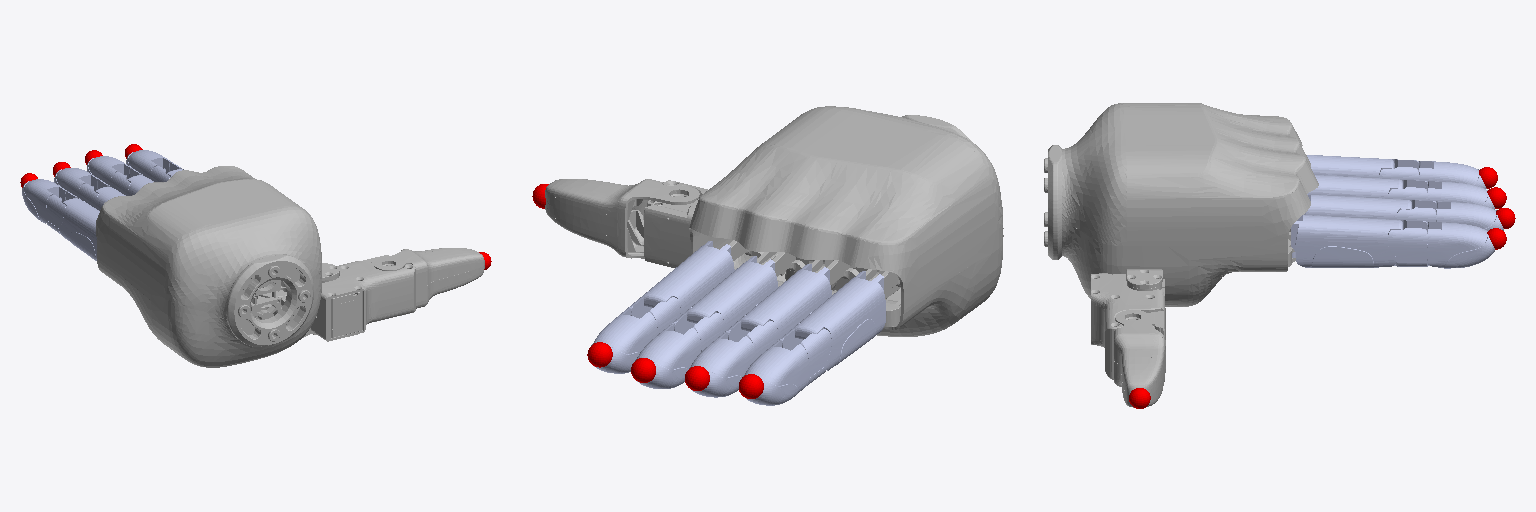
The robot description file, URDF, robot "Dex5-URDF-L":
<robot name="Dex5-URDF-L">
  <!-- Local deviations from the official unitreerobotics/unitree_ros Dex5-1 URDF:
       1. (left)  joint "Link_41L" renamed to "Roll_41L" - upstream collided with the
          link of the same name and broke the Roll_x1 convention used by every other finger.
       2. (right) link "base_link00" renamed to "base_link00R" for L/R symmetry.
       3. Added fixed *_tip frames on each distal link (offsets measured from the STL
          meshes). Retargeting optimizes a named link's frame ORIGIN, and each Link_x4
          origin sits on its own joint axis, i.e. at the last knuckle rather than the
          fingertip. Mirrors the convention already used by the Dex3-1 URDF. -->
  <mujoco>
    <compiler meshdir="meshes" discardvisual="false"/>
  </mujoco>
  <link name="base_link00L">
    <inertial>
      <origin xyz="-0.0227590758806084 0.027982 0.0119348470032202" rpy="0 0 0"/>
      <mass value="0.732177466301149"/>
      <inertia ixx="4.73937555345999E-04" ixy="1.71786934123191E-05" ixz="9.33281320777651E-07" iyy="5.5298572334445E-04" iyz="1.82790564520838E-05" izz="8.49303641851949E-04"/>
    </inertial>
    <visual>
      <origin xyz="0 0 0" rpy="0 0 0"/>
      <geometry>
        <mesh filename="meshes/base_link00L.STL"/>
      </geometry>
      <material name="">
        <color rgba="0.752941176470588 0.752941176470588 0.752941176470588 0.7"/>
      </material>
    </visual>
    <collision>
      <origin xyz="0 0 0" rpy="0 0 0"/>
      <geometry>
        <mesh filename="meshes/base_link00L.STL"/>
      </geometry>
    </collision>
  </link>
  <link name="Link_11L">
    <inertial>
      <origin xyz="-0.008418 0.000123 -0.003247" rpy="0 0 0"/>
      <mass value="0.02363"/>
      <inertia ixx="2.641049E-06" ixy="1.9442E-08" ixz="1.8132E-07" iyy="3.607134E-06" iyz="5.837E-09" izz="3.860781E-06"/>
    </inertial>
    <visual>
      <origin xyz="0 0 0" rpy="0 0 0"/>
      <geometry>
        <mesh filename="meshes/Link_11L.STL"/>
      </geometry>
      <material name="">
        <color rgba="0.752941176470588 0.752941176470588 0.752941176470588 1"/>
      </material>
    </visual>
    <collision>
      <origin xyz="0 0 0" rpy="0 0 0"/>
      <geometry>
        <mesh filename="meshes/Link_11L.STL"/>
      </geometry>
    </collision>
  </link>
  <joint name="Yaw_11L" type="revolute">
    <origin xyz="0 0 -0.0143499999999992" rpy="0 0 0"/>
    <parent link="base_link00L"/>
    <child link="Link_11L"/>
    <axis xyz="0 0 1"/>
    <limit lower="-0.5867" upper="0.6803" effort="0.93" velocity="4.18"/>
  </joint>
  <link name="Link_12L">
    <inertial>
      <origin xyz="0.014668 0.000013 -0.004099" rpy="0 0 0"/>
      <mass value="0.015809"/>
      <inertia ixx="3.066476E-06" ixy="-4.497E-9" ixz="2.22721E-7" iyy="4.049699E-06" iyz="1.404E-9" izz="3.627081E-06"/>
    </inertial>
    <visual>
      <origin xyz="0 0 0" rpy="0 0 0"/>
      <geometry>
        <mesh filename="meshes/Link_12L.STL"/>
      </geometry>
      <material name="">
        <color rgba="0.752941176470588 0.752941176470588 0.752941176470588 1"/>
      </material>
    </visual>
    <collision>
      <origin xyz="0 0 0" rpy="0 0 0"/>
      <geometry>
        <mesh filename="meshes/Link_12L.STL"/>
      </geometry>
    </collision>
  </link>
  <joint name="Roll_12L" type="revolute">
    <origin xyz="-1.0604101991607E-05 0 0" rpy="1.5707963267949 0 0"/>
    <parent link="Link_11L"/>
    <child link="Link_12L"/>
    <axis xyz="0 0 1"/>
    <limit lower="-1.8151" upper="0" effort="0.93" velocity="4.18"/>
  </joint>
  <link name="Link_13L">
    <inertial>
      <origin xyz="0.018557 -0.006933 0.000159" rpy="0 0 0"/>
      <mass value="0.06674"/>
      <inertia ixx="9.105565E-06" ixy="-1.948696E-06" ixz="2.9291E-08" iyy="2.2925394E-05" iyz="-0.816E-09" izz="2.3878954E-05"/>
    </inertial>
    <visual>
      <origin xyz="0 0 0" rpy="0 0 0"/>
      <geometry>
        <mesh filename="meshes/Link_13L.STL"/>
      </geometry>
      <material name="">
        <color rgba="0.752941176470588 0.752941176470588 0.752941176470588 1"/>
      </material>
    </visual>
    <collision>
      <origin xyz="0 0 0" rpy="0 0 0"/>
      <geometry>
        <mesh filename="meshes/Link_13L.STL"/>
      </geometry>
    </collision>
  </link>
  <joint name="Pitch_13L" type="revolute">
    <origin xyz="0.0334999999999999 0 -0.00600000000003837" rpy="-1.57079632679489 0 0"/>
    <parent link="Link_12L"/>
    <child link="Link_13L"/>
    <axis xyz="0 0 1"/>
    <limit lower="0" upper="1.7652" effort="0.93" velocity="4.18"/>
  </joint>
  <link name="Link_14L">
    <inertial>
      <origin xyz="0.028085 0.003322 0.000472" rpy="0 0 0"/>
      <mass value="0.020073"/>
      <inertia ixx="1.93782E-06" ixy="-1.69818E-07" ixz="1.24848E-07" iyy="6.083181E-06" iyz="2.0791E-08" izz="5.614839E-06"/>
    </inertial>
    <visual>
      <origin xyz="0 0 0" rpy="0 0 0"/>
      <geometry>
        <mesh filename="meshes/Link_14L.STL"/>
      </geometry>
      <material name="">
        <color rgba="0.752941176470588 0.752941176470588 0.752941176470588 1"/>
      </material>
    </visual>
    <collision>
      <origin xyz="0 0 0" rpy="0 0 0"/>
      <geometry>
        <mesh filename="meshes/Link_14L.STL"/>
      </geometry>
    </collision>
  </link>
  <joint name="Pitch_14L" type="revolute">
    <origin xyz="0.0366088275363755 -0.00536597803648681 0" rpy="0 0 0"/>
    <parent link="Link_13L"/>
    <child link="Link_14L"/>
    <axis xyz="0 0 1"/>
    <limit lower="0" upper="1.6406" effort="0.93" velocity="4.18"/>
  </joint>
  <link name="Link_21L">
    <inertial>
      <origin xyz="0.007826 -0.000005 -0.004125" rpy="0 0 0"/>
      <mass value="0.004497"/>
      <inertia ixx="8.9889E-08" ixy="-4.9E-11" ixz="3.7079E-08" iyy="1.37514E-07" iyz="-1.18E-10" izz="9.6125E-08"/>
    </inertial>
    <visual>
      <origin xyz="0 0 0" rpy="0 0 0"/>
      <geometry>
        <mesh filename="meshes/Link_21L.STL"/>
      </geometry>
      <material name="">
        <color rgba="0.792156862745098 0.819607843137255 0.933333333333333 1"/>
      </material>
    </visual>
    <collision>
      <origin xyz="0 0 0" rpy="0 0 0"/>
      <geometry>
        <mesh filename="meshes/Link_21L.STL"/>
      </geometry>
    </collision>
  </link>
  <joint name="Roll_21L" type="revolute">
    <origin xyz="0.0100000000000016 0.0731433586578309 0.00347021644327265" rpy="-3.14159265358979 0 1.5707963267949"/>
    <parent link="base_link00L"/>
    <child link="Link_21L"/>
    <axis xyz="0 0 1"/>
    <limit lower="-0.38397" upper="0.38397" effort="0.93" velocity="0.76794"/>
  </joint>
  <link name="Link_22L">
    <inertial>
      <origin xyz="0.021242 -0.005936 0.000059" rpy="0 0 0"/>
      <mass value="0.017982"/>
      <inertia ixx="1.206794E-06" ixy="-1.30843E-07" ixz="-2.335E-09" iyy="4.081109E-06" iyz="1.219E-09" izz="4.370124E-06"/>
    </inertial>
    <visual>
      <origin xyz="0 0 0" rpy="0 0 0"/>
      <geometry>
        <mesh filename="meshes/Link_22L.STL"/>
      </geometry>
      <material name="">
        <color rgba="0.792156862745098 0.819607843137255 0.933333333333333 1"/>
      </material>
    </visual>
    <collision>
      <origin xyz="0 0 0" rpy="0 0 0"/>
      <geometry>
        <mesh filename="meshes/Link_22L.STL"/>
      </geometry>
    </collision>
  </link>
  <joint name="Pitch_22L" type="revolute">
    <origin xyz="0.00419999999999998 0 0" rpy="1.5707963267949 0 0"/>
    <parent link="Link_21L"/>
    <child link="Link_22L"/>
    <axis xyz="0 0 1"/>
    <limit lower="0" upper="1.5708" effort="0.93" velocity="3.1416"/>
  </joint>
  <link name="Link_23L">
    <inertial>
      <origin xyz="0.011393 -0.005777 0.000001" rpy="0 0 0"/>
      <mass value="0.012776"/>
      <inertia ixx="6.38115E-07" ixy="5.5121E-08" ixz="-4.97E-10" iyy="6.31505E-07" iyz="-1.43E-10" izz="8.2943E-07"/>
    </inertial>
    <visual>
      <origin xyz="0 0 0" rpy="0 0 0"/>
      <geometry>
        <mesh filename="meshes/Link_23L.STL"/>
      </geometry>
      <material name="">
        <color rgba="0.792156862745098 0.819607843137255 0.933333333333333 1"/>
      </material>
    </visual>
    <collision>
      <origin xyz="0 0 0" rpy="0 0 0"/>
      <geometry>
        <mesh filename="meshes/Link_23L.STL"/>
      </geometry>
    </collision>
  </link>
  <joint name="Pitch_23L" type="revolute">
    <origin xyz="0.039999999999998 0 0" rpy="0 0 0"/>
    <parent link="Link_22L"/>
    <child link="Link_23L"/>
    <axis xyz="0 0 1"/>
    <limit lower="0" upper="1.684242699" effort="0.93" velocity="3.3685"/>
  </joint>
  <link name="Link_24L">
    <inertial>
      <origin xyz="0.009354 -0.004824 0.000072" rpy="0 0 0"/>
      <mass value="0.00639891165893413"/>
      <inertia ixx="4.9531E-07" ixy="-1.09285E-07" ixz="8.84E-10" iyy="1.466772E-06" iyz="4.47E-10" izz="1.448234E-06"/>
    </inertial>
    <visual>
      <origin xyz="0 0 0" rpy="0 0 0"/>
      <geometry>
        <mesh filename="meshes/Link_24L.STL"/>
      </geometry>
      <material name="">
        <color rgba="0.792156862745098 0.819607843137255 0.933333333333333 1"/>
      </material>
    </visual>
    <collision>
      <origin xyz="0 0 0" rpy="0 0 0"/>
      <geometry>
        <mesh filename="meshes/Link_24L.STL"/>
      </geometry>
    </collision>
  </link>
  <joint name="Pitch_24L" type="revolute">
    <origin xyz="0.020985 0.0008043 0" rpy="0 0 0"/>
    <parent link="Link_23L"/>
    <child link="Link_24L"/>
    <axis xyz="0 0 1"/>
    <limit lower="0" upper="1.3963" effort="0.93" velocity="2.7925"/>
  </joint>
  <link name="Link_31L">
    <inertial>
      <origin xyz="0.007826 -0.000005 -0.004125" rpy="0 0 0"/>
      <mass value="0.004497"/>
      <inertia ixx="8.9889E-08" ixy="-4.9E-11" ixz="3.7079E-08" iyy="1.37514E-07" iyz="-1.18E-10" izz="9.6125E-08"/>
    </inertial>
    <visual>
      <origin xyz="0 0 0" rpy="0 0 0"/>
      <geometry>
        <mesh filename="meshes/Link_31L.STL"/>
      </geometry>
      <material name="">
        <color rgba="0.792156862745098 0.819607843137255 0.933333333333333 1"/>
      </material>
    </visual>
    <collision>
      <origin xyz="0 0 0" rpy="0 0 0"/>
      <geometry>
        <mesh filename="meshes/Link_31L.STL"/>
      </geometry>
    </collision>
  </link>
  <joint name="Roll_31L" type="revolute">
    <origin xyz="-0.012 0.077143 0.0034702" rpy="-3.1416 0 1.5708"/>
    <parent link="base_link00L"/>
    <child link="Link_31L"/>
    <axis xyz="0 0 1"/>
    <limit lower="-0.38397" upper="0.38397" effort="0.93" velocity="0.76794"/>
  </joint>
  <link name="Link_32L">
    <inertial>
      <origin xyz="0.021242 -0.005936 0.000059" rpy="0 0 0"/>
      <mass value="0.017982"/>
      <inertia ixx="1.206794E-06" ixy="-1.30843E-07" ixz="-2.335E-09" iyy="4.081109E-06" iyz="1.219E-09" izz="4.370124E-06"/>
    </inertial>
    <visual>
      <origin xyz="0 0 0" rpy="0 0 0"/>
      <geometry>
        <mesh filename="meshes/Link_32L.STL"/>
      </geometry>
      <material name="">
        <color rgba="0.792156862745098 0.819607843137255 0.933333333333333 1"/>
      </material>
    </visual>
    <collision>
      <origin xyz="0 0 0" rpy="0 0 0"/>
      <geometry>
        <mesh filename="meshes/Link_32L.STL"/>
      </geometry>
    </collision>
  </link>
  <joint name="Pitch_32L" type="revolute">
    <origin xyz="0.00419999999999998 0 0" rpy="1.5707963267949 0 0"/>
    <parent link="Link_31L"/>
    <child link="Link_32L"/>
    <axis xyz="0 0 1"/>
    <limit lower="0" upper="1.5708" effort="0.93" velocity="3.1416"/>
  </joint>
  <link name="Link_33L">
    <inertial>
      <origin xyz="0.011393 -0.005777 0.000001" rpy="0 0 0"/>
      <mass value="0.012776"/>
      <inertia ixx="6.38115E-07" ixy="5.5121E-08" ixz="-4.97E-10" iyy="6.31505E-07" iyz="-1.43E-10" izz="8.2943E-07"/>
    </inertial>
    <visual>
      <origin xyz="0 0 0" rpy="0 0 0"/>
      <geometry>
        <mesh filename="meshes/Link_33L.STL"/>
      </geometry>
      <material name="">
        <color rgba="0.792156862745098 0.819607843137255 0.933333333333333 1"/>
      </material>
    </visual>
    <collision>
      <origin xyz="0 0 0" rpy="0 0 0"/>
      <geometry>
        <mesh filename="meshes/Link_33L.STL"/>
      </geometry>
    </collision>
  </link>
  <joint name="Pitch_33L" type="revolute">
    <origin xyz="0.04 0 0" rpy="0 0 0"/>
    <parent link="Link_32L"/>
    <child link="Link_33L"/>
    <axis xyz="0 0 1"/>
    <limit lower="0" upper="1.684242699" effort="0.93" velocity="3.3685"/>
  </joint>
  <link name="Link_34L">
    <inertial>
      <origin xyz="0.009354 -0.004824 0.000072" rpy="0 0 0"/>
      <mass value="0.00639891165893413"/>
      <inertia ixx="4.9531E-07" ixy="-1.09285E-07" ixz="8.84E-10" iyy="1.466772E-06" iyz="4.47E-10" izz="1.448234E-06"/>
    </inertial>
    <visual>
      <origin xyz="0 0 0" rpy="0 0 0"/>
      <geometry>
        <mesh filename="meshes/Link_34L.STL"/>
      </geometry>
      <material name="">
        <color rgba="0.792156862745098 0.819607843137255 0.933333333333333 1"/>
      </material>
    </visual>
    <collision>
      <origin xyz="0 0 0" rpy="0 0 0"/>
      <geometry>
        <mesh filename="meshes/Link_34L.STL"/>
      </geometry>
    </collision>
  </link>
  <joint name="Pitch_34L" type="revolute">
    <origin xyz="0.020985 0.0008043 0" rpy="0 0 0"/>
    <parent link="Link_33L"/>
    <child link="Link_34L"/>
    <axis xyz="0 0 1"/>
    <limit lower="0" upper="1.3963" effort="0.93" velocity="2.7925"/>
  </joint>
  <link name="Link_41L">
    <inertial>
      <origin xyz="0.007826 -0.000005 -0.004125" rpy="0 0 0"/>
      <mass value="0.004497"/>
      <inertia ixx="8.9889E-08" ixy="-4.9E-11" ixz="3.7079E-08" iyy="1.37514E-07" iyz="-1.18E-10" izz="9.6125E-08"/>
    </inertial>
    <visual>
      <origin xyz="0 0 0" rpy="0 0 0"/>
      <geometry>
        <mesh filename="meshes/Link_41L.STL"/>
      </geometry>
      <material name="">
        <color rgba="0.792156862745098 0.819607843137255 0.933333333333333 1"/>
      </material>
    </visual>
    <collision>
      <origin xyz="0 0 0" rpy="0 0 0"/>
      <geometry>
        <mesh filename="meshes/Link_41L.STL"/>
      </geometry>
    </collision>
  </link>
  <joint name="Roll_41L" type="revolute">
    <origin xyz="-0.034 0.073143 0.0034702" rpy="-3.1416 0 1.5708"/>
    <parent link="base_link00L"/>
    <child link="Link_41L"/>
    <axis xyz="0 0 1"/>
    <limit lower="-0.38397" upper="0.38397" effort="0.93" velocity="0.76794"/>
  </joint>
  <link name="Link_42L">
    <inertial>
      <origin xyz="0.021242 -0.005936 0.000059" rpy="0 0 0"/>
      <mass value="0.017982"/>
      <inertia ixx="1.206794E-06" ixy="-1.30843E-07" ixz="-2.335E-09" iyy="4.081109E-06" iyz="1.219E-09" izz="4.370124E-06"/>
    </inertial>
    <visual>
      <origin xyz="0 0 0" rpy="0 0 0"/>
      <geometry>
        <mesh filename="meshes/Link_42L.STL"/>
      </geometry>
      <material name="">
        <color rgba="0.792156862745098 0.819607843137255 0.933333333333333 1"/>
      </material>
    </visual>
    <collision>
      <origin xyz="0 0 0" rpy="0 0 0"/>
      <geometry>
        <mesh filename="meshes/Link_42L.STL"/>
      </geometry>
    </collision>
  </link>
  <joint name="Pitch_42L" type="revolute">
    <origin xyz="0.00419999999999998 0 0" rpy="1.5707963267949 0 0"/>
    <parent link="Link_41L"/>
    <child link="Link_42L"/>
    <axis xyz="0 0 1"/>
    <limit lower="0" upper="1.5708" effort="0.93" velocity="3.1416"/>
  </joint>
  <link name="Link_43L">
    <inertial>
      <origin xyz="0.011393 -0.005777 0.000001" rpy="0 0 0"/>
      <mass value="0.012776"/>
      <inertia ixx="6.38115E-07" ixy="5.5121E-08" ixz="-4.97E-10" iyy="6.31505E-07" iyz="-1.43E-10" izz="8.2943E-07"/>
    </inertial>
    <visual>
      <origin xyz="0 0 0" rpy="0 0 0"/>
      <geometry>
        <mesh filename="meshes/Link_43L.STL"/>
      </geometry>
      <material name="">
        <color rgba="0.792156862745098 0.819607843137255 0.933333333333333 1"/>
      </material>
    </visual>
    <collision>
      <origin xyz="0 0 0" rpy="0 0 0"/>
      <geometry>
        <mesh filename="meshes/Link_43L.STL"/>
      </geometry>
    </collision>
  </link>
  <joint name="Pitch_43L" type="revolute">
    <origin xyz="0.039999999999998 0 0" rpy="0 0 0"/>
    <parent link="Link_42L"/>
    <child link="Link_43L"/>
    <axis xyz="0 0 1"/>
    <limit lower="0" upper="1.684242699" effort="0.93" velocity="3.3685"/>
  </joint>
  <link name="Link_44L">
    <inertial>
      <origin xyz="0.009354 -0.004824 0.000072" rpy="0 0 0"/>
      <mass value="0.00639891165893413"/>
      <inertia ixx="4.9531E-07" ixy="-1.09285E-07" ixz="8.84E-10" iyy="1.466772E-06" iyz="4.47E-10" izz="1.448234E-06"/>
    </inertial>
    <visual>
      <origin xyz="0 0 0" rpy="0 0 0"/>
      <geometry>
        <mesh filename="meshes/Link_44L.STL"/>
      </geometry>
      <material name="">
        <color rgba="0.792156862745098 0.819607843137255 0.933333333333333 1"/>
      </material>
    </visual>
    <collision>
      <origin xyz="0 0 0" rpy="0 0 0"/>
      <geometry>
        <mesh filename="meshes/Link_44L.STL"/>
      </geometry>
    </collision>
  </link>
  <joint name="Pitch_44L" type="revolute">
    <origin xyz="0.0209845918681 0.000804303505750904 0" rpy="0 0 0"/>
    <parent link="Link_43L"/>
    <child link="Link_44L"/>
    <axis xyz="0 0 1"/>
    <limit lower="0" upper="1.3963" effort="0.93" velocity="2.7925"/>
  </joint>
  <link name="Link_51L">
    <inertial>
      <origin xyz="0.007826 -0.000005 -0.004125" rpy="0 0 0"/>
      <mass value="0.004497"/>
      <inertia ixx="8.9889E-08" ixy="-4.9E-11" ixz="3.7079E-08" iyy="1.37514E-07" iyz="-1.18E-10" izz="9.6125E-08"/>
    </inertial>
    <visual>
      <origin xyz="0 0 0" rpy="0 0 0"/>
      <geometry>
        <mesh filename="meshes/Link_51L.STL"/>
      </geometry>
      <material name="">
        <color rgba="0.792156862745098 0.819607843137255 0.933333333333333 1"/>
      </material>
    </visual>
    <collision>
      <origin xyz="0 0 0" rpy="0 0 0"/>
      <geometry>
        <mesh filename="meshes/Link_51L.STL"/>
      </geometry>
    </collision>
  </link>
  <joint name="Roll_51L" type="revolute">
    <origin xyz="-0.0559999999999983 0.069143358657831 0.00347021644327289" rpy="-3.14159265358979 0 1.5707963267949"/>
    <parent link="base_link00L"/>
    <child link="Link_51L"/>
    <axis xyz="0 0 1"/>
    <limit lower="-0.38397" upper="0.38397" effort="0.93" velocity="0.767944858"/>
  </joint>
  <link name="Link_52L">
    <inertial>
      <origin xyz="0.021242 -0.005936 0.000059" rpy="0 0 0"/>
      <mass value="0.017982"/>
      <inertia ixx="1.206794E-06" ixy="-1.30843E-07" ixz="-2.335E-09" iyy="4.081109E-06" iyz="1.219E-09" izz="4.370124E-06"/>
    </inertial>
    <visual>
      <origin xyz="0 0 0" rpy="0 0 0"/>
      <geometry>
        <mesh filename="meshes/Link_52L.STL"/>
      </geometry>
      <material name="">
        <color rgba="0.792156862745098 0.819607843137255 0.933333333333333 1"/>
      </material>
    </visual>
    <collision>
      <origin xyz="0 0 0" rpy="0 0 0"/>
      <geometry>
        <mesh filename="meshes/Link_52L.STL"/>
      </geometry>
    </collision>
  </link>
  <joint name="Pitch_52L" type="revolute">
    <origin xyz="0.00419999999999998 0 0" rpy="1.5707963267949 0 0"/>
    <parent link="Link_51L"/>
    <child link="Link_52L"/>
    <axis xyz="0 0 1"/>
    <limit lower="0" upper="1.5708" effort="0.93" velocity="3.1416"/>
  </joint>
  <link name="Link_53L">
    <inertial>
      <origin xyz="0.011393 -0.005777 0.000001" rpy="0 0 0"/>
      <mass value="0.012776"/>
      <inertia ixx="6.38115E-07" ixy="5.5121E-08" ixz="-4.97E-10" iyy="6.31505E-07" iyz="-1.43E-10" izz="8.2943E-07"/>
    </inertial>
    <visual>
      <origin xyz="0 0 0" rpy="0 0 0"/>
      <geometry>
        <mesh filename="meshes/Link_53L.STL"/>
      </geometry>
      <material name="">
        <color rgba="0.792156862745098 0.819607843137255 0.933333333333333 1"/>
      </material>
    </visual>
    <collision>
      <origin xyz="0 0 0" rpy="0 0 0"/>
      <geometry>
        <mesh filename="meshes/Link_53L.STL"/>
      </geometry>
    </collision>
  </link>
  <joint name="Pitch_53L" type="revolute">
    <origin xyz="0.039999999999998 0 0" rpy="0 0 0"/>
    <parent link="Link_52L"/>
    <child link="Link_53L"/>
    <axis xyz="0 0 1"/>
    <limit lower="0" upper="1.684242699" effort="0.93" velocity="3.3685"/>
  </joint>
  <link name="Link_54L">
    <inertial>
      <origin xyz="0.009354 -0.004824 0.000072" rpy="0 0 0"/>
      <mass value="0.00639891165893413"/>
      <inertia ixx="4.9531E-07" ixy="-1.09285E-07" ixz="8.84E-10" iyy="1.466772E-06" iyz="4.47E-10" izz="1.448234E-06"/>
    </inertial>
    <visual>
      <origin xyz="0 0 0" rpy="0 0 0"/>
      <geometry>
        <mesh filename="meshes/Link_54L.STL"/>
      </geometry>
      <material name="">
        <color rgba="0.792156862745098 0.819607843137255 0.933333333333333 1"/>
      </material>
    </visual>
    <collision>
      <origin xyz="0 0 0" rpy="0 0 0"/>
      <geometry>
        <mesh filename="meshes/Link_54L.STL"/>
      </geometry>
    </collision>
  </link>
  <joint name="Pitch_54L" type="revolute">
    <origin xyz="0.0209845918681 0.000804303505750904 0" rpy="0 0 0"/>
    <parent link="Link_53L"/>
    <child link="Link_54L"/>
    <axis xyz="0 0 1"/>
    <limit lower="0" upper="1.3963" effort="0.93" velocity="2.7925"/>
  </joint>
  <link name="thumb_tipL">
    <visual>
      <origin xyz="0 0 0" rpy="0 0 0" />
      <geometry>
        <sphere radius="0.005" />
      </geometry>
      <material name="red">
        <color rgba="1 0 0 1" />
      </material>
    </visual>
  </link>
  <joint name="thumb_tip_jointL" type="fixed">
    <origin xyz="0.0588 0.0032 0.0" rpy="0 0 0" />
    <parent link="Link_14L" />
    <child link="thumb_tipL" />
  </joint>
  <link name="index_tipL">
    <visual>
      <origin xyz="0 0 0" rpy="0 0 0" />
      <geometry>
        <sphere radius="0.005" />
      </geometry>
      <material name="red">
        <color rgba="1 0 0 1" />
      </material>
    </visual>
  </link>
  <joint name="index_tip_jointL" type="fixed">
    <origin xyz="0.0284 -0.008 0.0" rpy="0 0 0" />
    <parent link="Link_24L" />
    <child link="index_tipL" />
  </joint>
  <link name="middle_tipL">
    <visual>
      <origin xyz="0 0 0" rpy="0 0 0" />
      <geometry>
        <sphere radius="0.005" />
      </geometry>
      <material name="red">
        <color rgba="1 0 0 1" />
      </material>
    </visual>
  </link>
  <joint name="middle_tip_jointL" type="fixed">
    <origin xyz="0.0284 -0.008 0.0" rpy="0 0 0" />
    <parent link="Link_34L" />
    <child link="middle_tipL" />
  </joint>
  <link name="ring_tipL">
    <visual>
      <origin xyz="0 0 0" rpy="0 0 0" />
      <geometry>
        <sphere radius="0.005" />
      </geometry>
      <material name="red">
        <color rgba="1 0 0 1" />
      </material>
    </visual>
  </link>
  <joint name="ring_tip_jointL" type="fixed">
    <origin xyz="0.0284 -0.008 0.0" rpy="0 0 0" />
    <parent link="Link_44L" />
    <child link="ring_tipL" />
  </joint>
  <link name="pinky_tipL">
    <visual>
      <origin xyz="0 0 0" rpy="0 0 0" />
      <geometry>
        <sphere radius="0.005" />
      </geometry>
      <material name="red">
        <color rgba="1 0 0 1" />
      </material>
    </visual>
  </link>
  <joint name="pinky_tip_jointL" type="fixed">
    <origin xyz="0.0284 -0.008 0.0" rpy="0 0 0" />
    <parent link="Link_54L" />
    <child link="pinky_tipL" />
  </joint>
</robot>

--- Facts derived from the render (not from the file) ---
Views: 3 orthographic renders of the robot side by side, from view 1: azimuth 30°, elevation 25°; view 2: azimuth 150°, elevation 25°; view 3: azimuth 270°, elevation 25°.
Model Dex5-URDF-L with 26 links and 25 joints (20 revolute, 5 fixed), rooted at base_link00L, posed every joint at zero.
Visible links, largest first — view 1: base_link00L, Link_13L, Link_14L, Link_52L, Link_54L, Link_44L, Link_34L, Link_24L, Link_53L; view 2: base_link00L, Link_14L, Link_52L, Link_42L, Link_32L, Link_22L, Link_13L, Link_54L, Link_44L, Link_34L, Link_24L, Link_53L (+3 smaller); view 3: base_link00L, Link_22L, Link_14L, Link_13L, Link_24L, Link_32L, Link_42L, Link_23L, Link_52L, Link_34L, Link_54L, Link_44L (+4 smaller).
Link boxes in pixels (x1,y1,x2,y2): base_link00L: (96,166,321,367); Link_13L: (311,255,415,341); Link_14L: (374,248,484,308); Link_52L: (60,198,99,260); Link_54L: (22,179,68,223); Link_44L: (54,168,99,197); Link_34L: (87,156,131,185); Link_24L: (126,150,171,178); Link_53L: (46,192,84,233); base_link00L: (689,106,1003,336); Link_14L: (545,179,699,258); Link_52L: (795,271,885,370); Link_42L: (741,264,831,340); Link_32L: (687,256,777,332); Link_22L: (644,241,734,315); Link_13L: (644,180,707,267); Link_54L: (743,340,808,405); Link_44L: (689,332,754,397); Link_34L: (635,323,700,388); Link_24L: (591,308,657,373); Link_53L: (778,323,831,385); base_link00L: (1044,103,1318,306); Link_22L: (1291,215,1402,267); Link_14L: (1114,310,1165,407); Link_13L: (1091,273,1165,379); Link_24L: (1427,222,1494,268); Link_32L: (1304,194,1411,219); Link_42L: (1308,175,1402,198); Link_23L: (1388,220,1429,266); Link_52L: (1307,155,1394,177); Link_34L: (1436,201,1503,230); Link_54L: (1419,161,1486,188); Link_44L: (1428,181,1494,209).
Size in the robot's own frame: 0.2039 by 0.2155 by 0.0809 metres.
21 mesh visuals loaded from 21 distinct referenced files (21 binary STL).
